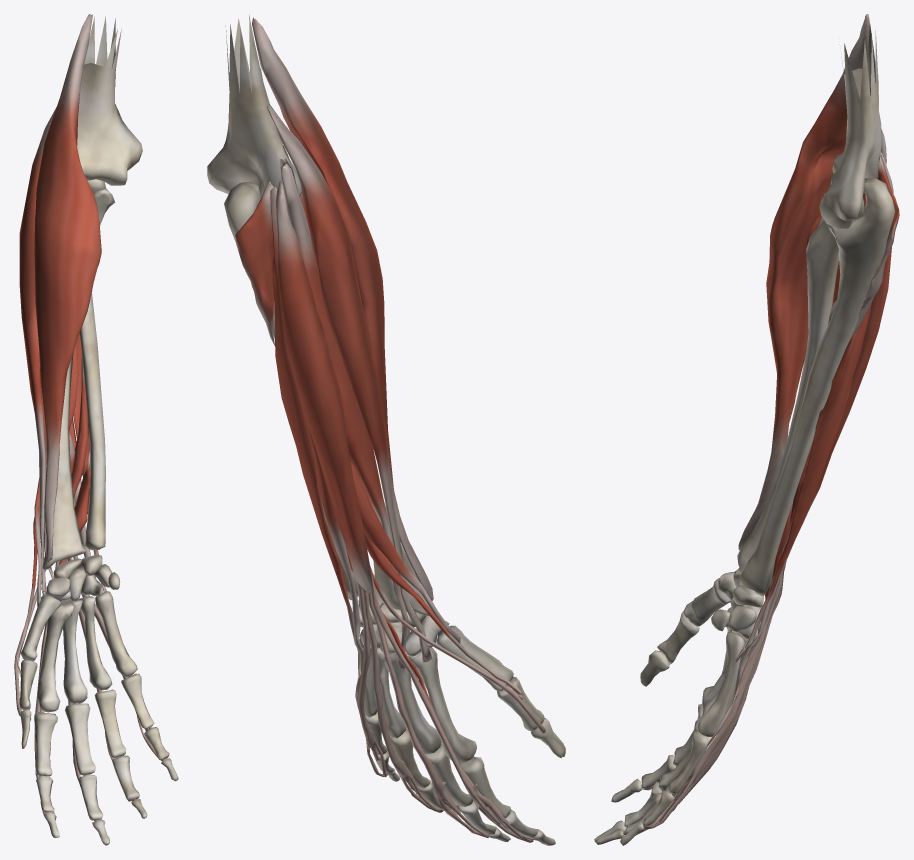
The model's file is forearm-extensors.glb.
The picture shows the model from 3 angles, left to right: view 1: azimuth 30°, elevation 25°; view 2: azimuth 150°, elevation 25°; view 3: azimuth 270°, elevation 25°; orthographic projection. The views are drawn at different scales.
Visible parts, largest first — view 1: Right_brachioradialis, Right_humerus, Right_extensor_carpi_radialis_longus, Right_ulna, Right_radius, Right_2nd_metacarpal_bone, Right_3rd_metacarpal_bone, Right_extensor_pollicis_longus, Right_5th_metacarpal_bone, Right_proximal_phalanx_of_3rd_digit, Right_4th_metacarpal_bone, Right_extensor_digitorum_tendons (+19 smaller); view 2: Right_extensor_digitorum, Right_extensor_carpi_radialis_longus, Right_brachioradialis, Right_extensor_digitorum_tendons, Right_humerus, Right_extensor_carpi_radialis_brevis, Right_extensor_carpi_ulnaris, Right_anconeus, Right_abductor_pollicis_longus, Right_2nd_metacarpal_bone, Right_extensor_digiti_minimi, Right_ulna (+10 smaller); view 3: Right_brachioradialis, Right_ulna, Right_humerus, Right_radius, Right_extensor_carpi_ulnaris, Right_extensor_digitorum_tendons, Right_extensor_digitorum, Right_5th_metacarpal_bone, Right_anconeus, Right_extensor_digiti_minimi, Right_1st_metacarpal_bone, Right_proximal_phalanx_of_1st_digit_thumb (+2 smaller).
Part boxes in pixels (left/top/right/bottom): Right_brachioradialis: left=34, top=14, right=101, bottom=562; Right_humerus: left=77, top=16, right=142, bottom=185; Right_extensor_carpi_radialis_longus: left=19, top=107, right=56, bottom=594; Right_ulna: left=79, top=179, right=114, bottom=550; Right_radius: left=42, top=352, right=86, bottom=571; Right_2nd_metacarpal_bone: left=37, top=600, right=74, bottom=712; Right_3rd_metacarpal_bone: left=60, top=599, right=87, bottom=703; Right_extensor_pollicis_longus: left=14, top=354, right=88, bottom=716; Right_5th_metacarpal_bone: left=95, top=591, right=137, bottom=676; Right_proximal_phalanx_of_3rd_digit: left=65, top=703, right=95, bottom=775; Right_4th_metacarpal_bone: left=78, top=596, right=112, bottom=690; Right_extensor_digitorum_tendons: left=34, top=555, right=164, bottom=821; Right_extensor_digitorum: left=276, top=186, right=373, bottom=592; Right_extensor_carpi_radialis_longus: left=267, top=103, right=432, bottom=662; Right_brachioradialis: left=252, top=17, right=433, bottom=600; Right_extensor_digitorum_tendons: left=356, top=573, right=533, bottom=842; Right_humerus: left=207, top=14, right=301, bottom=199; Right_extensor_carpi_radialis_brevis: left=279, top=145, right=408, bottom=668; Right_extensor_carpi_ulnaris: left=270, top=187, right=358, bottom=651; Right_anconeus: left=235, top=181, right=274, bottom=345; Right_abductor_pollicis_longus: left=350, top=462, right=460, bottom=643; Right_2nd_metacarpal_bone: left=408, top=647, right=476, bottom=762; Right_extensor_digiti_minimi: left=278, top=181, right=363, bottom=708; Right_ulna: left=224, top=182, right=374, bottom=600; Right_brachioradialis: left=738, top=14, right=869, bottom=550; Right_ulna: left=739, top=178, right=895, bottom=596; Right_humerus: left=819, top=24, right=881, bottom=228; Right_radius: left=737, top=193, right=838, bottom=572; Right_extensor_carpi_ulnaris: left=735, top=155, right=882, bottom=662; Right_extensor_digitorum_tendons: left=623, top=561, right=786, bottom=835; Right_extensor_digitorum: left=781, top=151, right=893, bottom=554; Right_5th_metacarpal_bone: left=698, top=632, right=744, bottom=736; Right_anconeus: left=852, top=155, right=899, bottom=335; Right_extensor_digiti_minimi: left=705, top=162, right=879, bottom=751; Right_1st_metacarpal_bone: left=683, top=578, right=730, bottom=626; Right_proximal_phalanx_of_1st_digit_thumb: left=657, top=611, right=699, bottom=664.
Size of the model in its own units: 0.1452 by 0.4914 by 0.1536.
43 materials, 43 textured.
